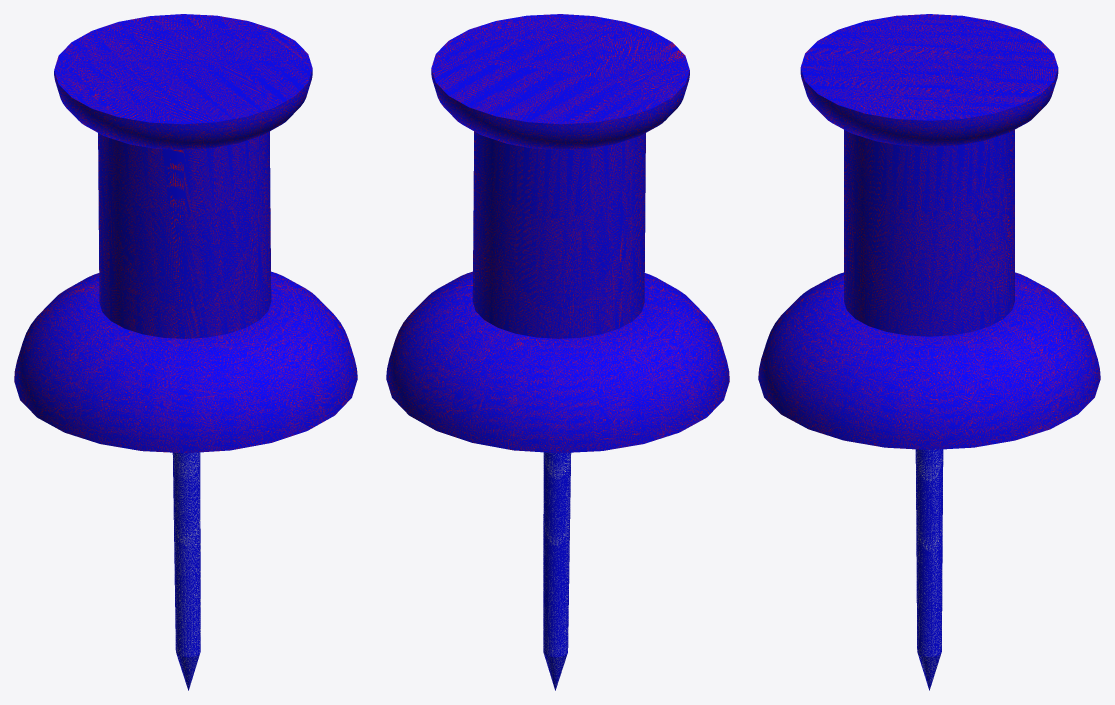
Rendered from pushPinRed.dae.
3 renders of one model, left to right at view 1: azimuth 30°, elevation 25°; view 2: azimuth 150°, elevation 25°; view 3: azimuth 270°, elevation 25°, orthographic.
Visible parts, largest first — view 1: Push_Pin (×2); view 2: Push_Pin (×2); view 3: Push_Pin (×2).
Boxes of the visible parts, x1=… form: Push_Pin (×2): x1=14, y1=14, x2=357, y2=690; Push_Pin (×2): x1=386, y1=14, x2=729, y2=690; Push_Pin (×2): x1=758, y1=14, x2=1100, y2=690.
Bounding box in the file's own units: 24 × 24 × 48.09.
